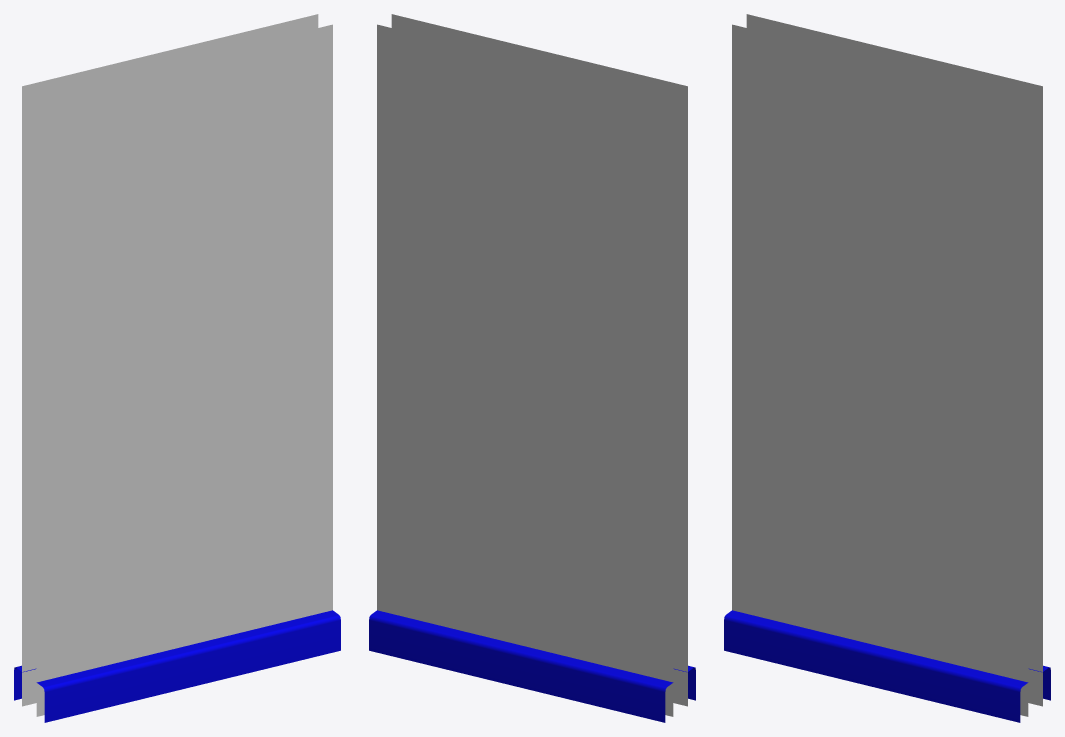
The model's file is HalfVertWallBevled.fbx.
The picture shows the model from 3 angles, left to right: view 1: azimuth 30°, elevation 25°; view 2: azimuth 150°, elevation 25°; view 3: azimuth 330°, elevation 25°; orthographic projection.
Parts seen in each view (by area): view 1: Wall, Trim; view 2: Wall, Trim; view 3: Wall, Trim.
Part boxes in pixels (x1,y1,x2,y2): Wall: (22, 14, 332, 716); Trim: (14, 610, 340, 722); Wall: (377, 14, 687, 716); Trim: (369, 610, 695, 722); Wall: (732, 14, 1042, 716); Trim: (724, 610, 1050, 722).
Size of the model in its own units: 6 by 12 by 1.07.
